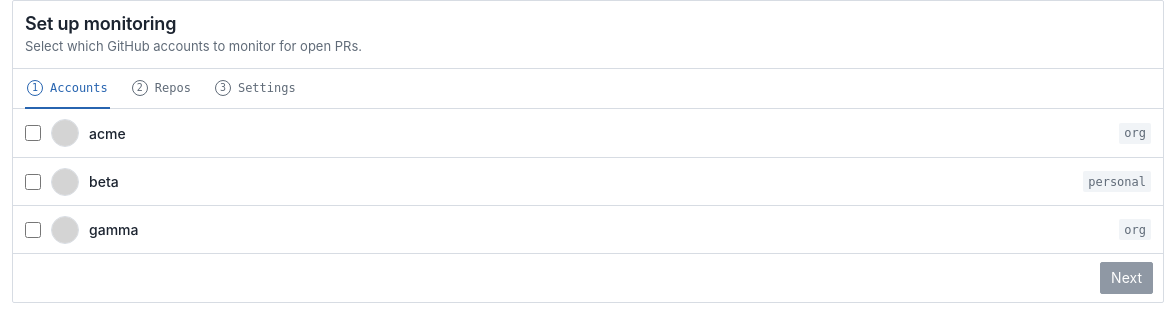
Test: a failed repository listing shows the error instead of an empty list
The width and height of the screenshot is (1164, 320).
Click the checkbox labelled "acme org" at (33, 133), box [25, 125, 41, 141]
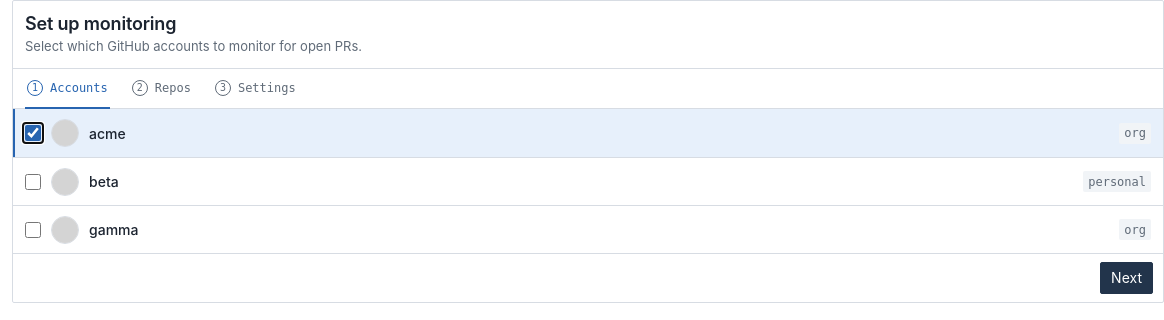
Click the button "Next" at (1127, 278), box [1100, 262, 1153, 294]
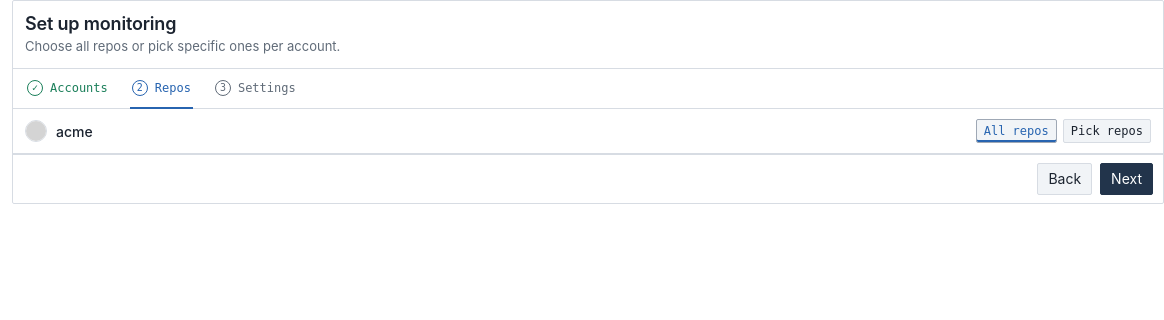
Click the button "Pick repos" at (1107, 131), box [1063, 119, 1151, 143]
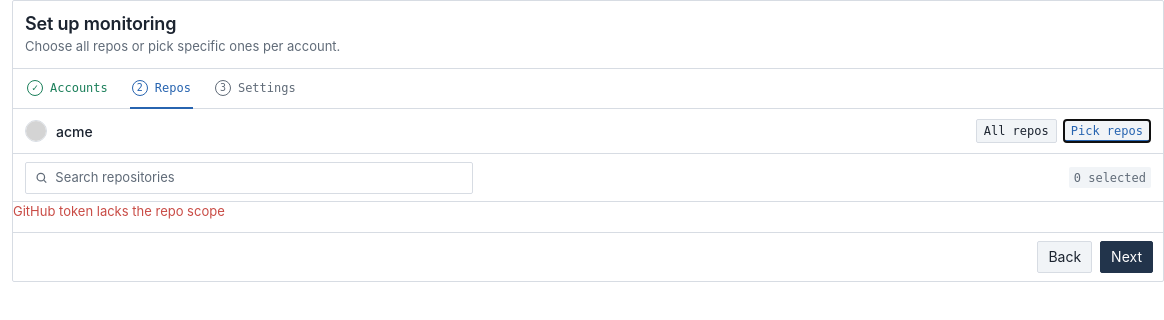
Expected: the message reads "GitHub token lacks the repo scope", [13, 203, 225, 219]
